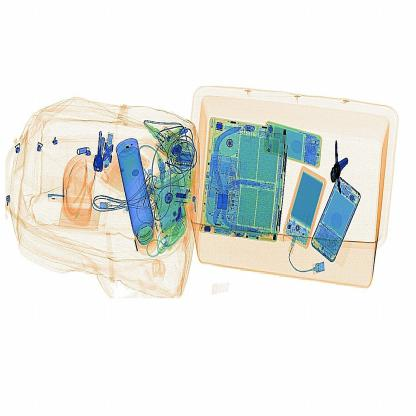wrench: (321, 133, 359, 193)
